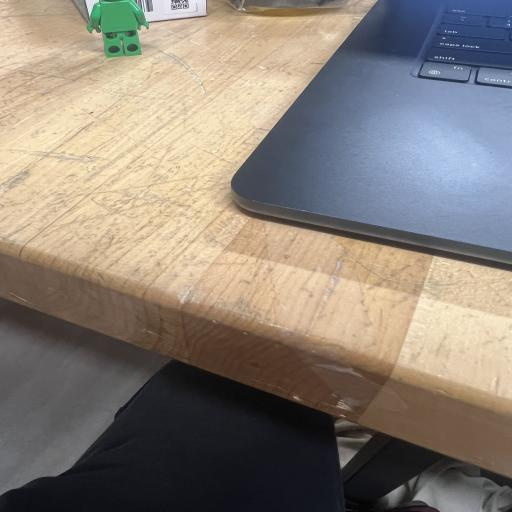green-lego-minifigure-detector: (86, 0, 148, 58)
